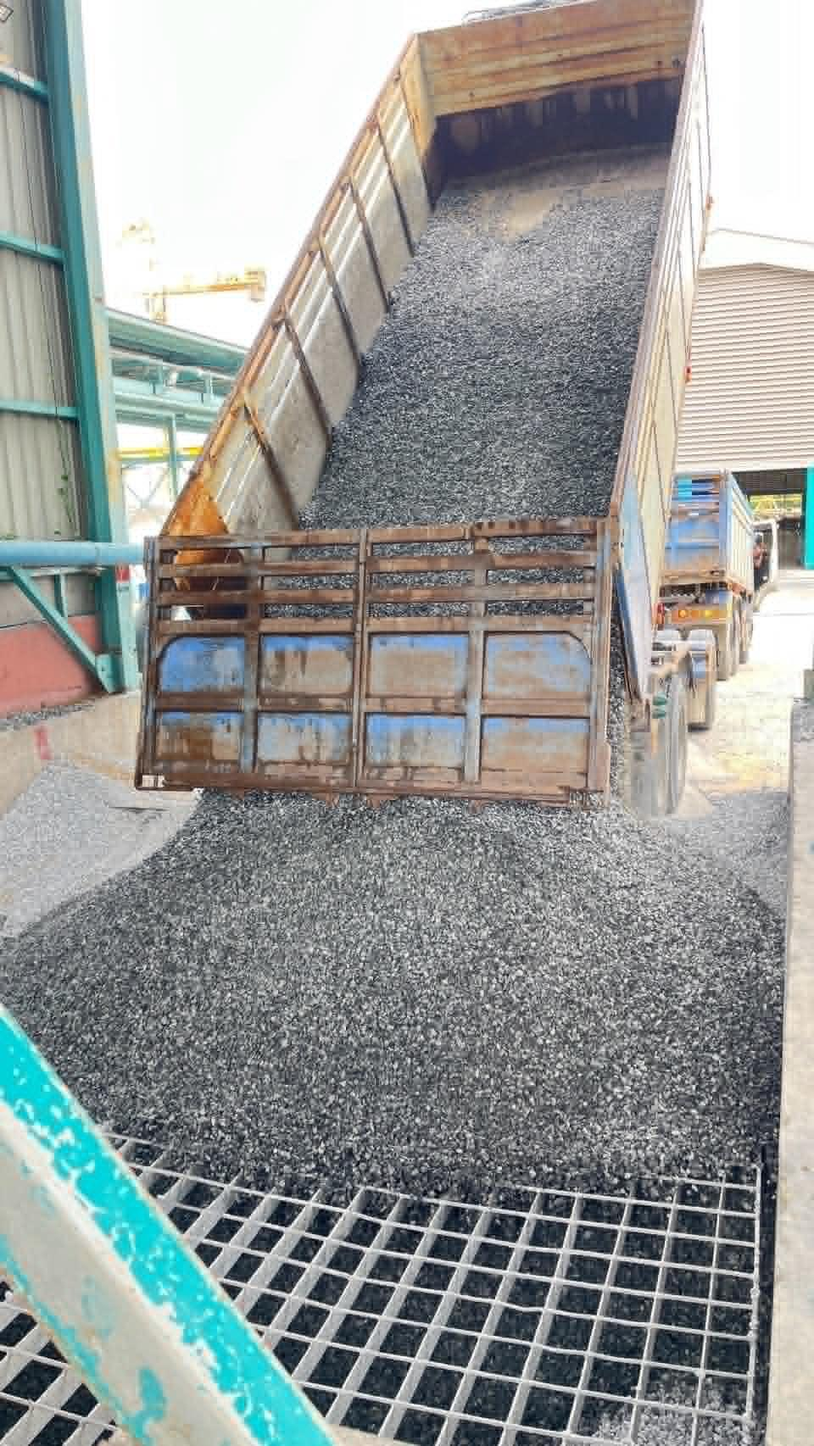gravel: (0, 796, 781, 1193), (308, 147, 666, 526), (0, 762, 195, 940), (662, 787, 789, 922), (0, 699, 92, 731)
